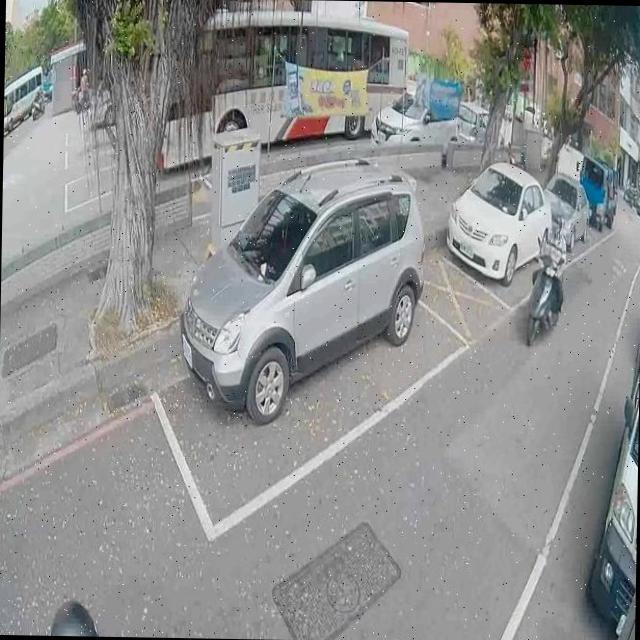person: (528, 218, 568, 326), (46, 588, 106, 636), (76, 62, 88, 110), (34, 82, 44, 109)
